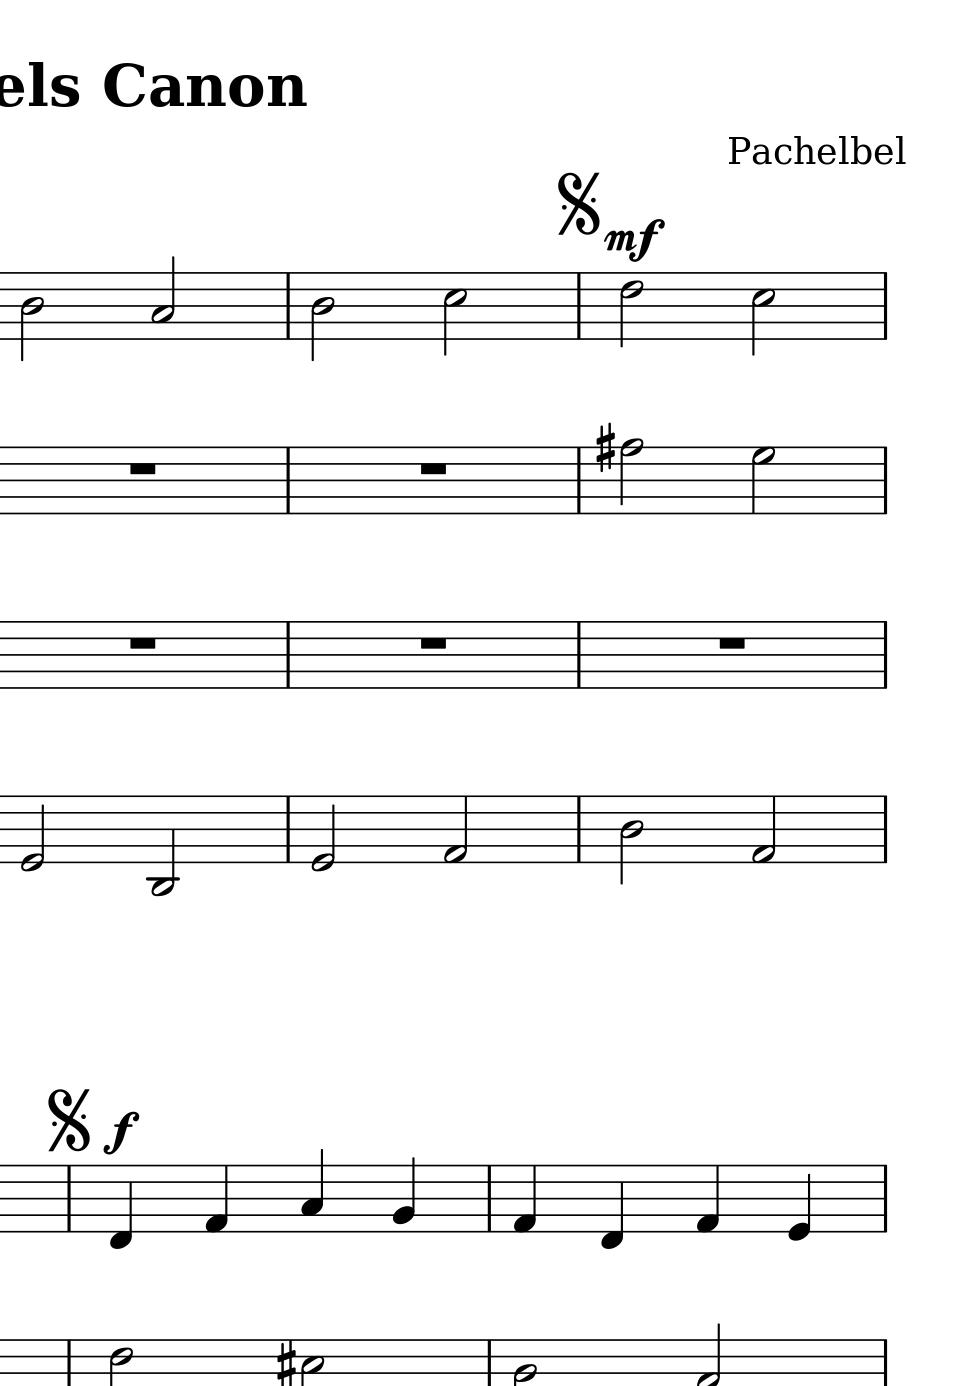2_-3: (147, 794, 178, 899)
2_0: (308, 793, 336, 873), (19, 793, 46, 874)
2_1: (750, 794, 778, 866), (443, 793, 469, 866)
2_2: (148, 255, 176, 340)
2_4: (308, 270, 335, 364), (618, 793, 644, 885), (18, 270, 43, 361)
2_5: (749, 271, 776, 357), (441, 271, 467, 357)
2_6: (618, 270, 645, 348)
2_7: (749, 443, 777, 516)
2_8: (618, 437, 644, 517)
4_-1: (106, 1163, 134, 1251), (598, 1162, 624, 1251)
4_0: (786, 1163, 812, 1243)
4_1: (203, 1163, 229, 1235), (694, 1164, 720, 1234), (511, 1164, 537, 1234)
4_2: (391, 1155, 416, 1234)
4_3: (299, 1147, 325, 1234)
Rests1: (125, 633, 159, 652), (125, 459, 159, 477), (416, 633, 450, 651), (714, 633, 748, 651), (416, 459, 450, 476)
Segno: (550, 166, 607, 240), (42, 1086, 97, 1154)
Sharp: (594, 421, 615, 474), (274, 1339, 296, 1386)
Single_barline: (876, 271, 894, 339), (570, 273, 588, 339), (876, 448, 894, 514), (480, 1166, 498, 1231), (279, 448, 296, 515), (876, 621, 893, 689), (279, 622, 296, 689), (876, 1165, 893, 1232), (280, 273, 296, 340), (571, 795, 587, 863), (571, 448, 587, 514), (877, 796, 893, 863), (571, 622, 587, 688), (280, 796, 295, 863), (62, 1166, 76, 1231)
f: (102, 1110, 141, 1154)
mf: (603, 217, 666, 261)
